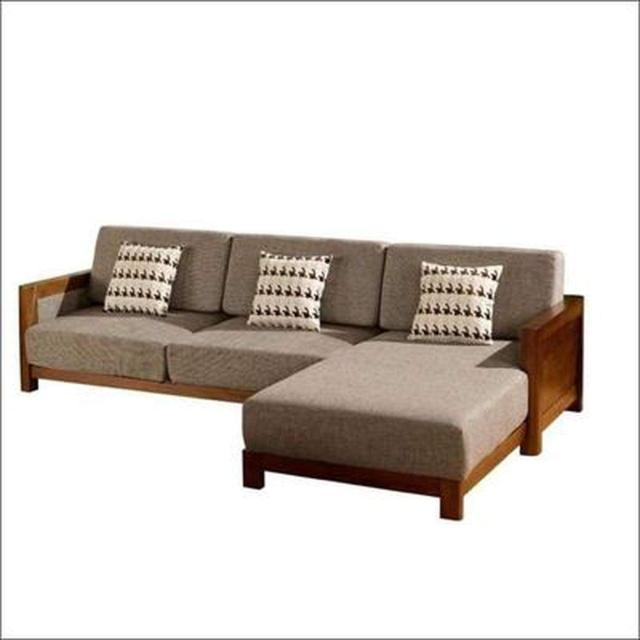sofa: (18, 223, 584, 520)
